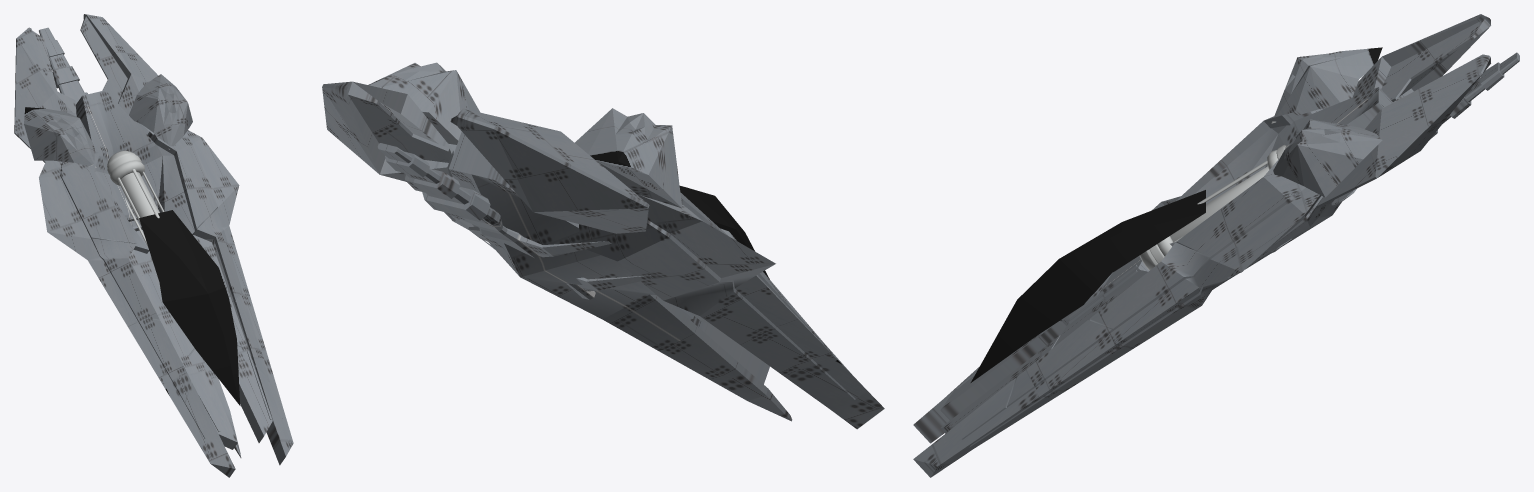
The model's file is weop3.fbx.
3 views of the same model, side by side, from view 1: azimuth 30°, elevation 25°; view 2: azimuth 150°, elevation 25°; view 3: azimuth 270°, elevation 25° (orthographic). The views are drawn at different scales.
Parts seen in each view (by area): view 1: polySurface3256, polySurface3234; view 2: polySurface3256, polySurface3234; view 3: polySurface3256, polySurface3234.
Part boxes in pixels (box(x1,y1,x2,y2)): polySurface3256: box(14, 14, 293, 477); polySurface3234: box(139, 210, 240, 405); polySurface3256: box(322, 62, 884, 429); polySurface3234: box(679, 186, 769, 279); polySurface3256: box(913, 14, 1519, 477); polySurface3234: box(970, 190, 1205, 382).
Size of the model in its own units: 3.97 by 6.03 by 7.77.
